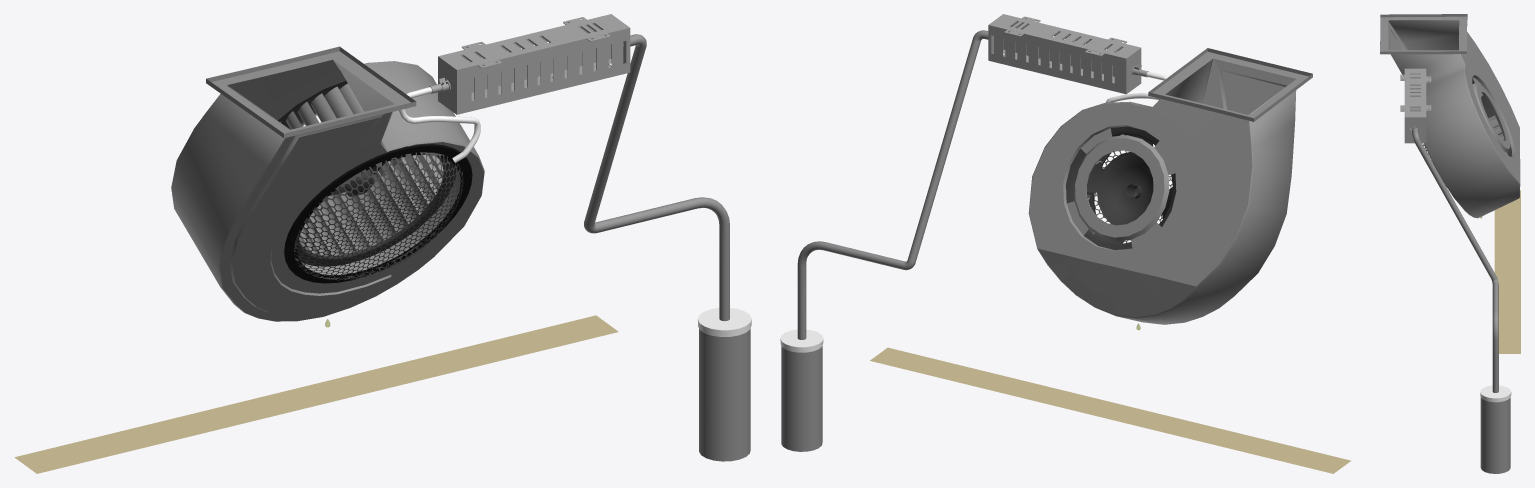
Rendered from Hexing.FBX.
The picture shows the model from 3 angles, left to right: view 1: azimuth 30°, elevation 25°; view 2: azimuth 150°, elevation 25°; view 3: azimuth 270°, elevation 25°; orthographic projection. The views are drawn at different scales.
Visible parts, largest first — view 1: ke_01, youceng, yashouji, lvyouwang, shangye, shuibei, shuiguan_01, ke_02, ke_03, beigai, ke_04, zhengqiguan_01; view 2: ke_01, youceng, yashouji, ke_04, shuibei, shuiguan_01, beigai; view 3: ke_01, youceng, shuibei, shuiguan_01, yashouji, beigai, ke_04.
Boxes of the visible parts, x1,y1,x2,y2 form: ke_01: (171, 46, 484, 321); youceng: (14, 315, 618, 473); yashouji: (429, 14, 630, 114); lvyouwang: (294, 152, 463, 280); shangye: (280, 83, 443, 255); shuibei: (699, 329, 750, 461); shuiguan_01: (584, 34, 729, 317); ke_02: (284, 144, 472, 283); ke_03: (297, 156, 456, 266); beigai: (697, 308, 751, 336); ke_04: (278, 81, 385, 196); zhengqiguan_01: (398, 89, 480, 140); ke_01: (1028, 48, 1312, 324); youceng: (870, 347, 1350, 473); yashouji: (988, 14, 1148, 94); ke_04: (1066, 126, 1176, 249); shuibei: (781, 346, 822, 451); shuiguan_01: (797, 30, 988, 337); beigai: (780, 329, 823, 352); ke_01: (1380, 14, 1520, 218); youceng: (1494, 190, 1520, 353); shuibei: (1480, 397, 1510, 473); shuiguan_01: (1412, 127, 1498, 390); yashouji: (1400, 68, 1431, 143); beigai: (1480, 385, 1511, 402); ke_04: (1472, 78, 1511, 156).
Size of the model in its own units: 1692 by 1188 by 503.
